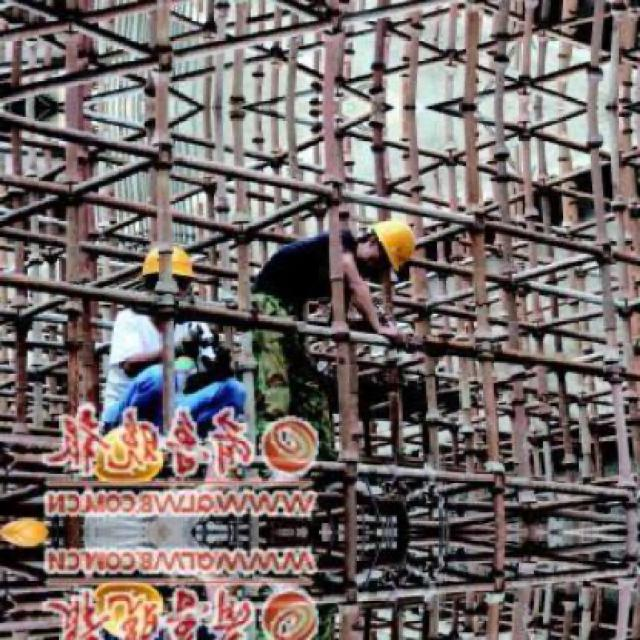con casco: (325, 185, 441, 300)
